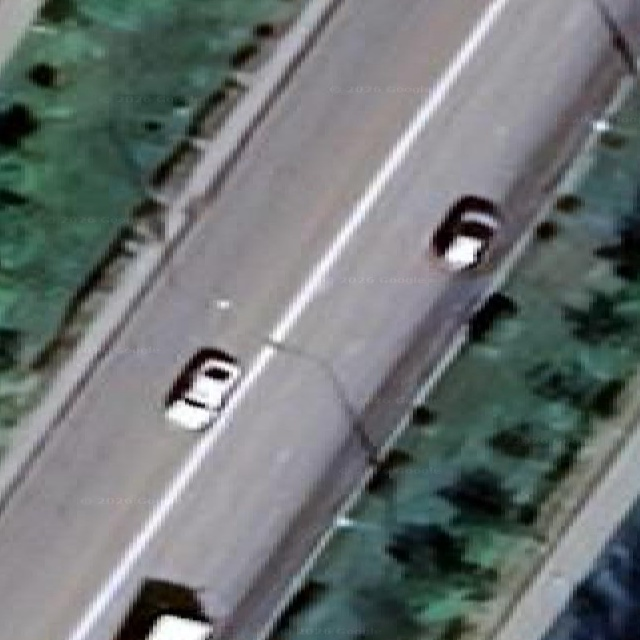car: (164, 348, 240, 430), (112, 580, 216, 639), (432, 196, 499, 271), (145, 615, 212, 639)
